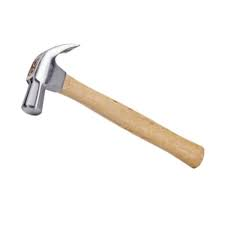martillu: (18, 42, 206, 177)
